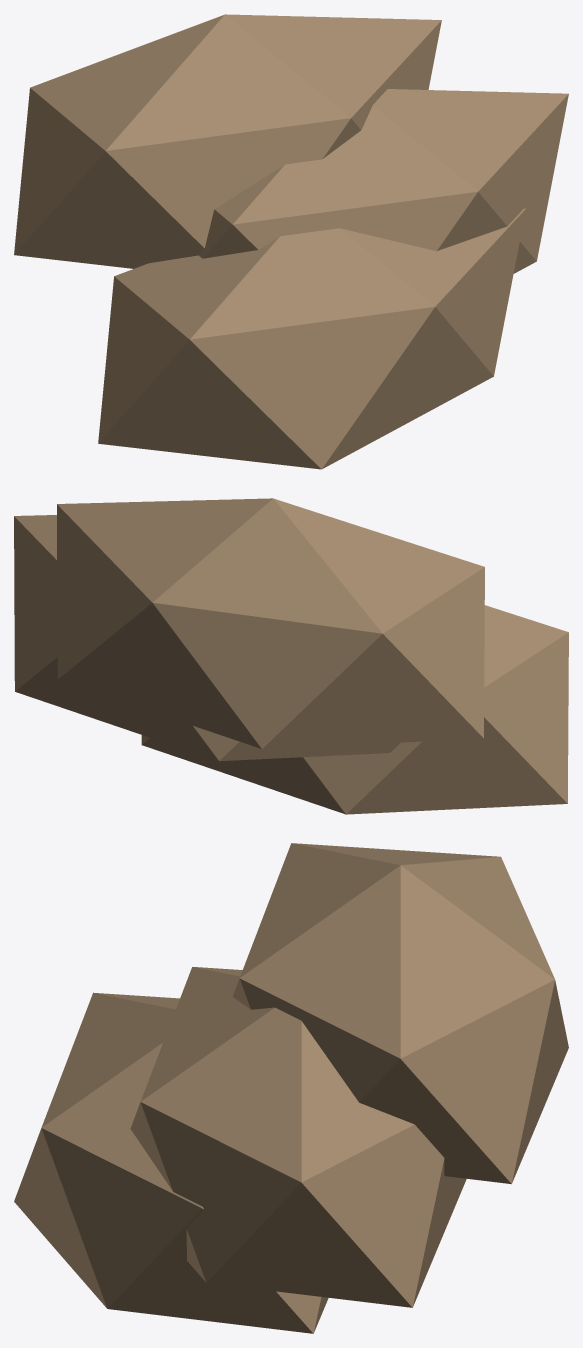
Rendered from item_020_roots_m.glb.
The picture shows the model from 3 angles, top to bottom: view 1: azimuth 30°, elevation 25°; view 2: azimuth 150°, elevation 25°; view 3: azimuth 270°, elevation 25°; orthographic projection. The views are drawn at different scales.
Visible parts, largest first — view 1: item_020_roots_m; view 2: item_020_roots_m; view 3: item_020_roots_m.
Boxes of the visible parts, x1,y1,x2,y2 form: item_020_roots_m: [14, 14, 568, 469]; item_020_roots_m: [14, 498, 568, 814]; item_020_roots_m: [14, 843, 568, 1333].
Size of the model in its own units: 0.4225 by 0.2882 by 0.336.
